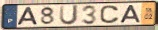3: (81, 4, 98, 25)
8: (40, 6, 56, 26)
A: (15, 6, 39, 26), (119, 5, 142, 24)
C: (99, 5, 121, 25)
U: (58, 4, 80, 26)
